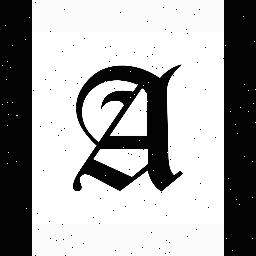a: (45, 47, 193, 215)
